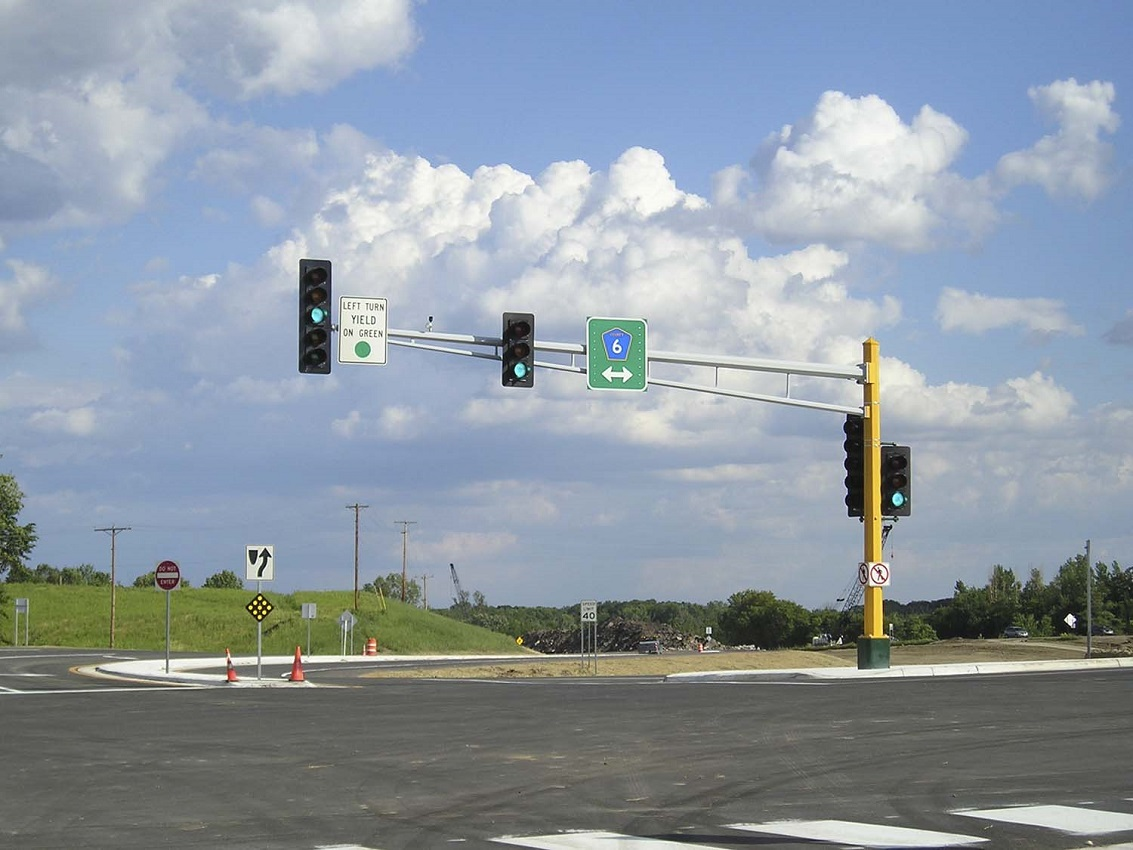traffic_light: (297, 257, 333, 376), (500, 310, 536, 389), (878, 444, 913, 518)
